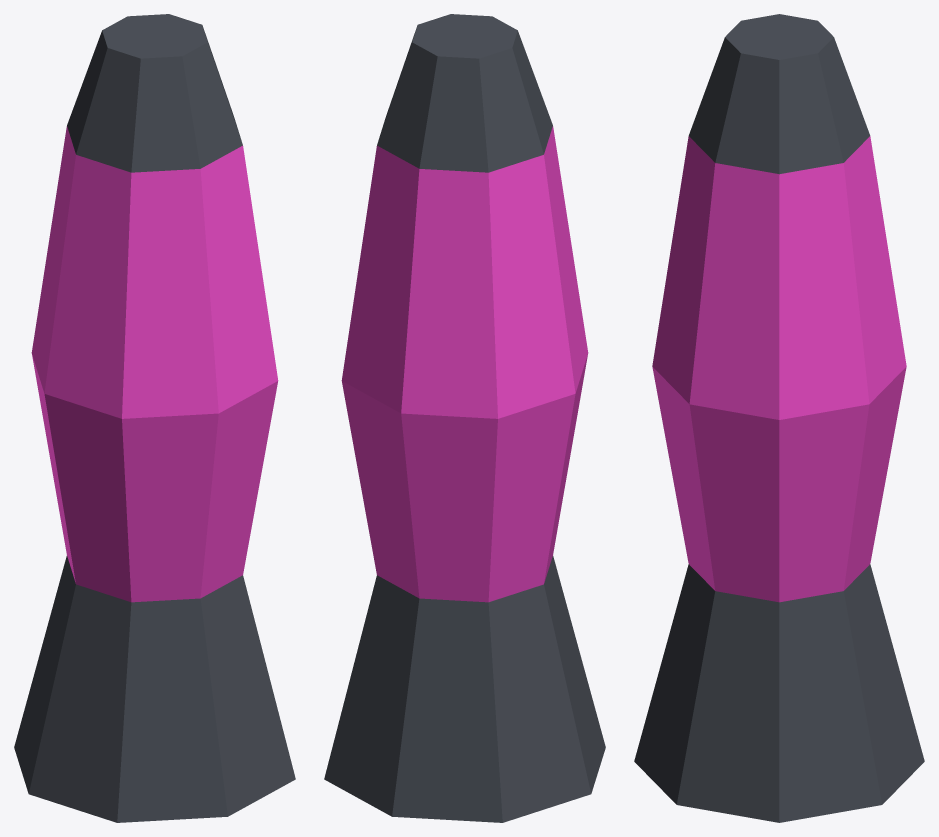
Rendered from LavaLamp.fbx.
3 renders of one model, left to right at view 1: azimuth 30°, elevation 25°; view 2: azimuth 150°, elevation 25°; view 3: azimuth 270°, elevation 25°, orthographic.
Visible parts, largest first — view 1: LavaLamp; view 2: LavaLamp; view 3: LavaLamp.
Part boxes in pixels (left/top/right/bottom): LavaLamp: left=14, top=14, right=295, bottom=822; LavaLamp: left=324, top=14, right=605, bottom=822; LavaLamp: left=634, top=14, right=924, bottom=822.
Bounding box in the file's own units: 0.8 × 2.2 × 0.8.
1 material, 1 textured.
